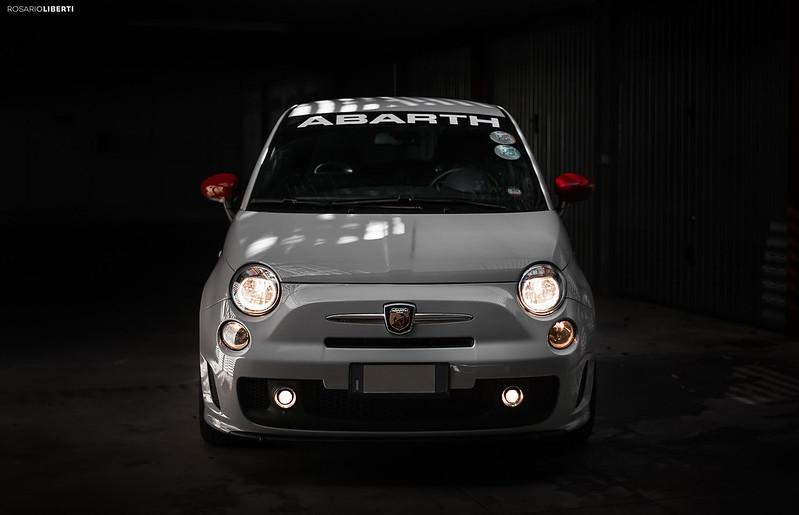windshield: (236, 109, 547, 216)
